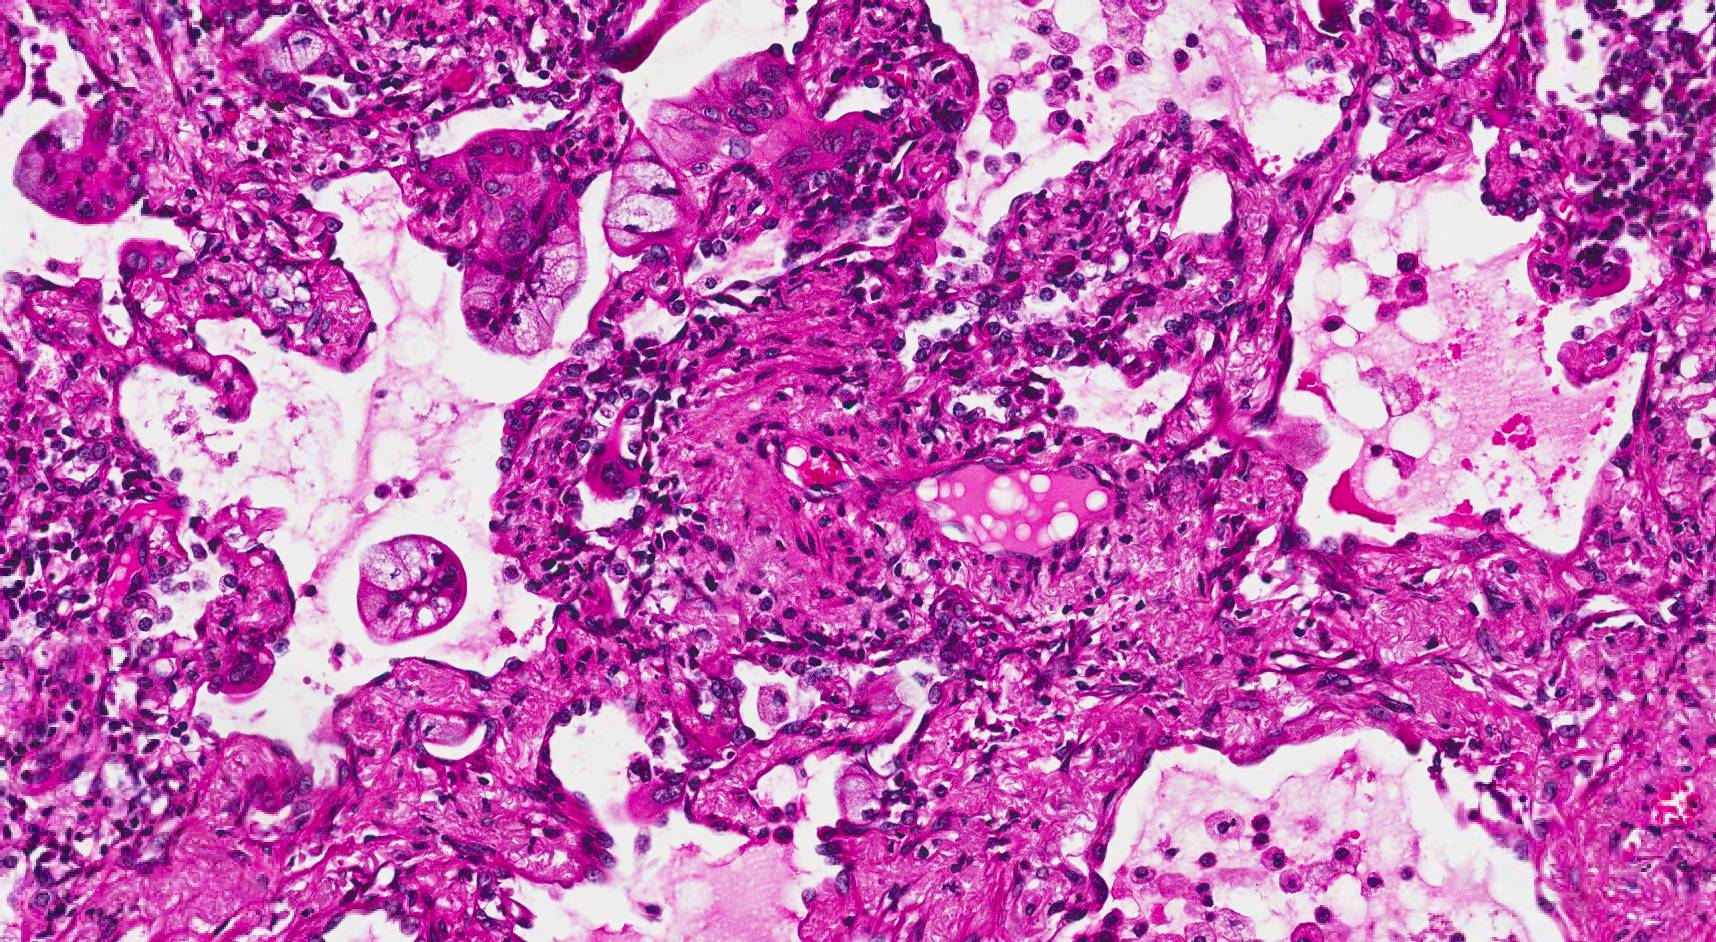stas: (357, 531, 469, 639)
